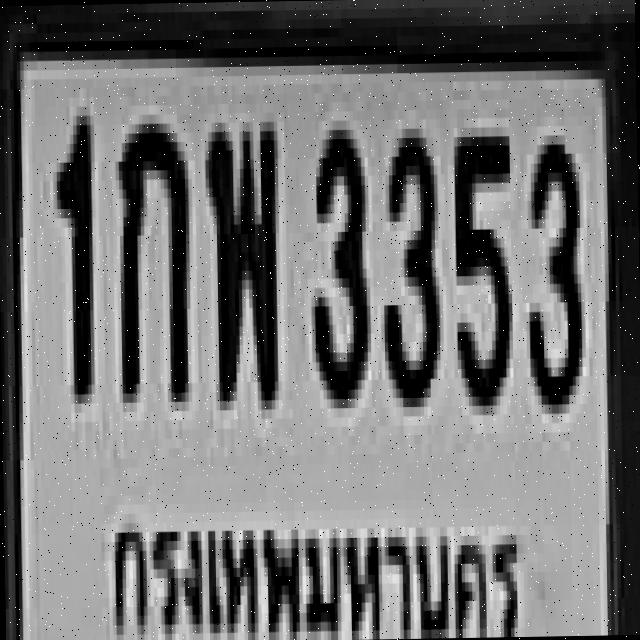1: (51, 106, 91, 394)
10GorGai: (114, 109, 188, 389)
3: (377, 114, 437, 393), (522, 121, 580, 400), (308, 120, 365, 398)
39PhorPan: (204, 108, 278, 396)
5: (450, 122, 510, 401)
Bangkok: (95, 470, 535, 640)
